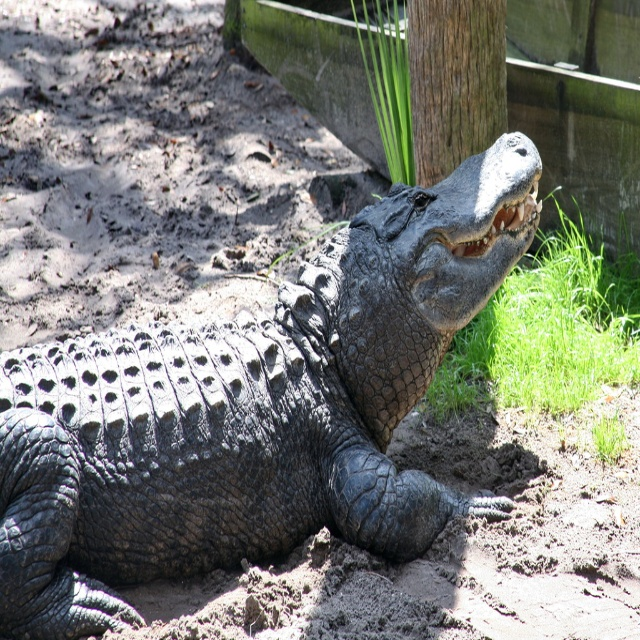Crocodile: (1, 131, 542, 639)
